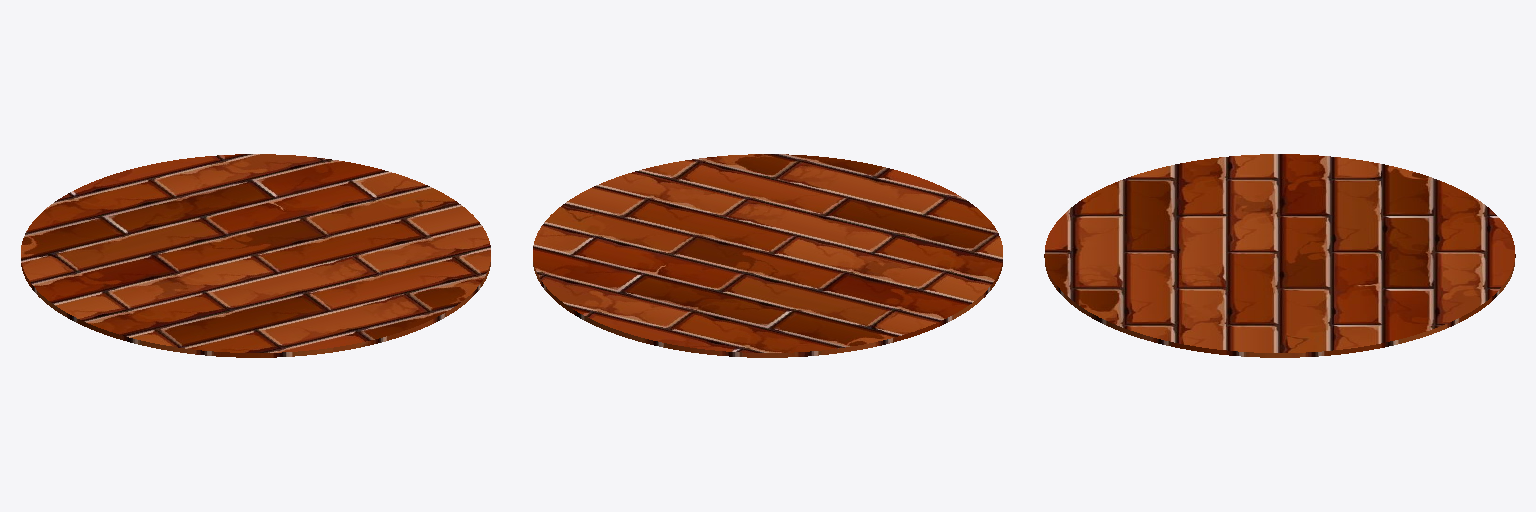
3 views of the same model, side by side, from view 1: azimuth 30°, elevation 25°; view 2: azimuth 150°, elevation 25°; view 3: azimuth 270°, elevation 25° (orthographic).
Visible parts, largest first — view 1: 1_low.001; view 2: 1_low.001; view 3: 1_low.001.
Boxes of the visible parts, <box> form: 1_low.001: <box>21,154,490,357</box>; 1_low.001: <box>533,154,1002,357</box>; 1_low.001: <box>1044,154,1515,357</box>.
Size of the model in its own units: 1.97 by 0.022 by 1.97.
1 materials, 1 textured.